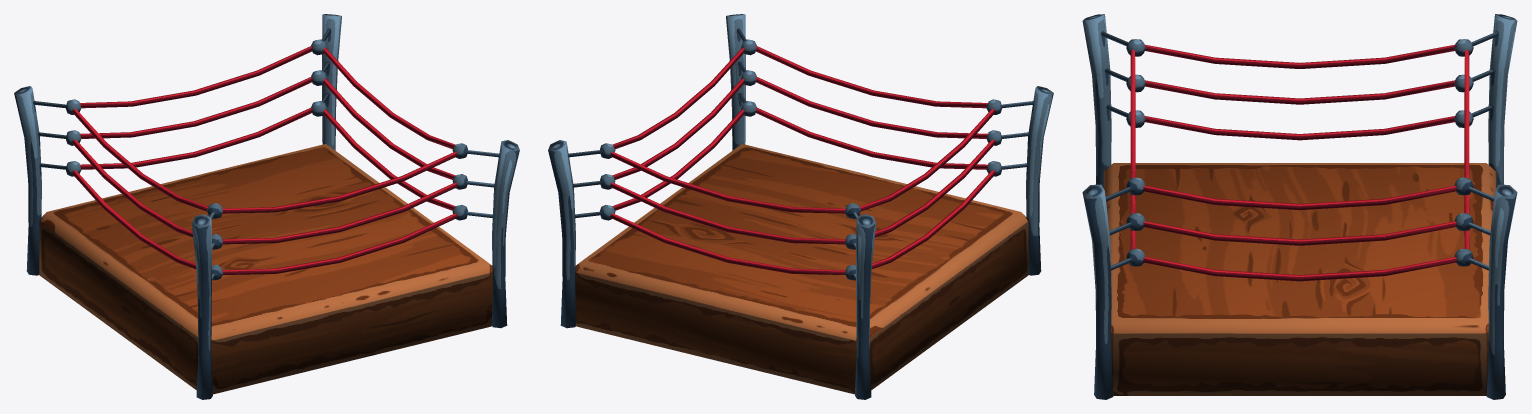
File: Ring_Moprher.fbx
The picture shows the model from 3 angles, left to right: view 1: azimuth 30°, elevation 25°; view 2: azimuth 150°, elevation 25°; view 3: azimuth 270°, elevation 25°; orthographic projection. The views are drawn at different scales.
Parts seen in each view (by area): view 1: Ring; view 2: Ring; view 3: Ring.
Part boxes in pixels (bbox=[...]): Ring: bbox=[14, 14, 519, 399]; Ring: bbox=[548, 14, 1053, 399]; Ring: bbox=[1082, 14, 1517, 399].
Size of the model in its own units: 222 by 119 by 222.
Materials: 1 (1 with a texture image).
